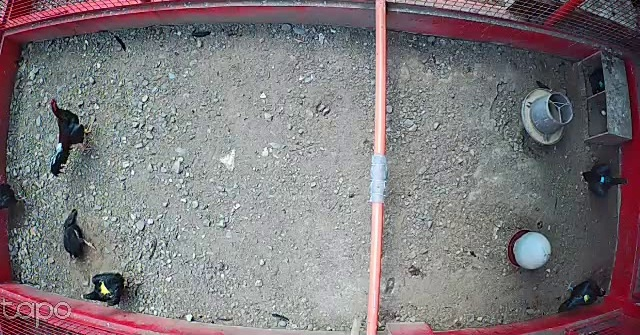Chicken: (80, 264, 136, 307), (555, 272, 608, 316), (63, 203, 100, 265), (579, 158, 632, 197), (0, 167, 31, 221)
Rooster: (45, 94, 96, 179)
Saddle_Color_Blue: (600, 176, 606, 184)
Saddle_Color_Yellow: (99, 280, 112, 295)
Saddle_Color_YellowGreen: (583, 293, 591, 303)
